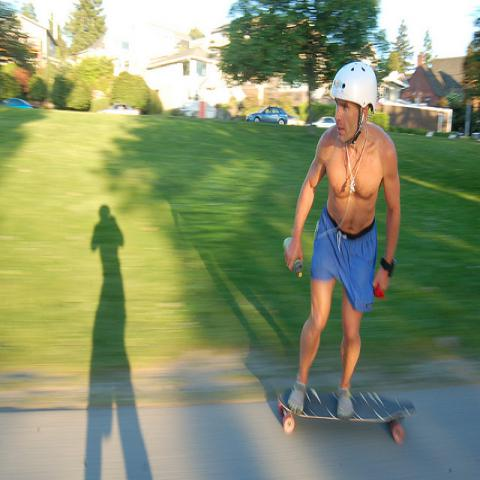car: (183, 100, 220, 122), (246, 106, 288, 125), (98, 103, 142, 115), (309, 115, 336, 130), (1, 98, 37, 108)
